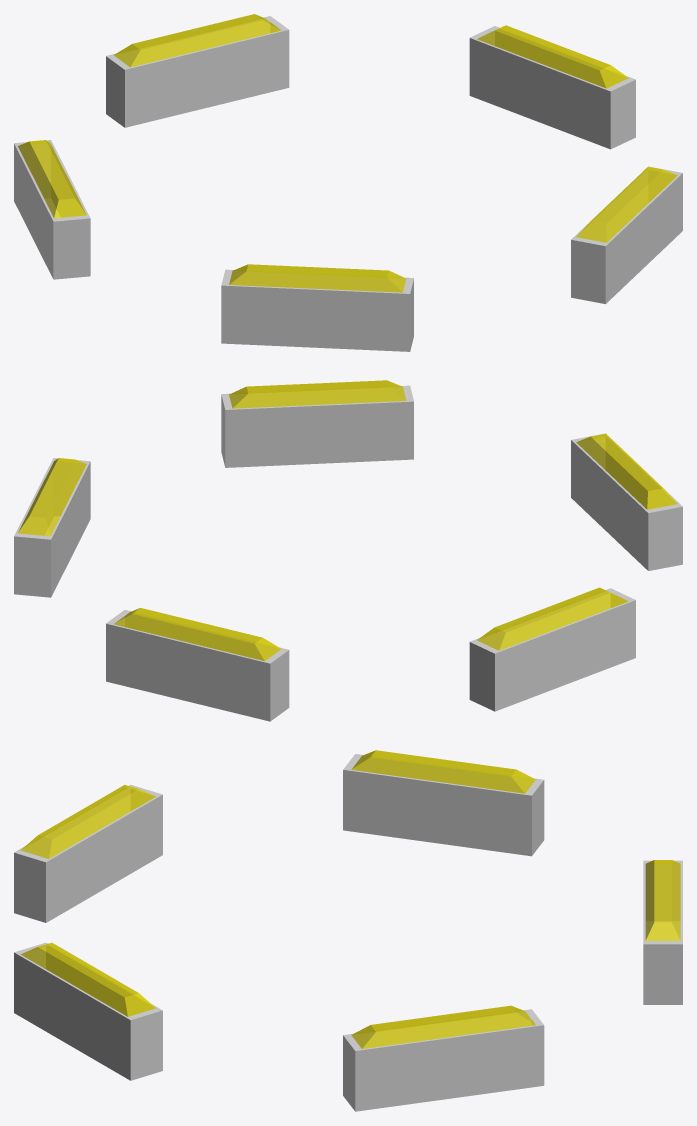
File: PieceSoutien.fbx
3 views of the same model, one above another, from view 1: azimuth 30°, elevation 25°; view 2: azimuth 150°, elevation 25°; view 3: azimuth 270°, elevation 25° (orthographic). The views are drawn at different scales.
Visible parts, largest first — view 1: TypePiece1, TypePiece3, TypePiece4, TypePiece5, TypePiece2; view 2: TypePiece5, TypePiece3, TypePiece2, TypePiece1, TypePiece4; view 3: TypePiece4, TypePiece2, TypePiece1, TypePiece5, TypePiece3.
Part boxes in pixels (bbox=[...]): TypePiece1: bbox=[221, 264, 413, 351]; TypePiece3: bbox=[106, 14, 289, 127]; TypePiece4: bbox=[469, 25, 635, 149]; TypePiece5: bbox=[571, 166, 682, 304]; TypePiece2: bbox=[14, 140, 90, 279]; TypePiece5: bbox=[221, 380, 413, 467]; TypePiece3: bbox=[106, 608, 289, 721]; TypePiece2: bbox=[469, 587, 635, 711]; TypePiece1: bbox=[571, 433, 682, 570]; TypePiece4: bbox=[14, 458, 90, 597]; TypePiece4: bbox=[343, 1005, 544, 1111]; TypePiece2: bbox=[343, 750, 544, 856]; TypePiece1: bbox=[14, 784, 162, 922]; TypePiece5: bbox=[14, 942, 162, 1080]; TypePiece3: bbox=[643, 860, 682, 1004].
Bounding box in the file's own units: 1.77 × 1.68 × 0.2.
